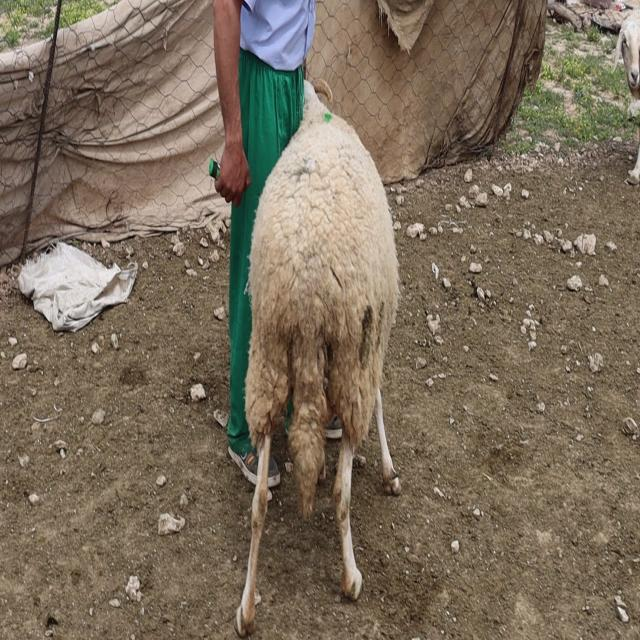Score_5: (234, 81, 400, 635)
